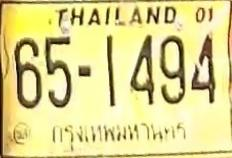1: (105, 34, 115, 108)
4: (190, 32, 216, 104), (128, 34, 154, 105)
5: (44, 35, 72, 108)
6: (14, 37, 42, 109)
9: (160, 35, 186, 104)
BKK: (47, 115, 188, 149)
